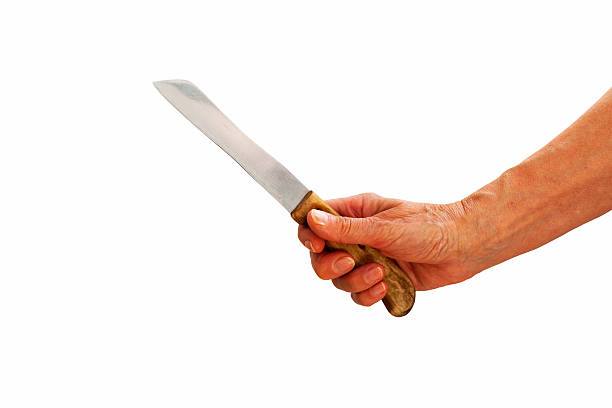knife: (152, 78, 417, 317)
